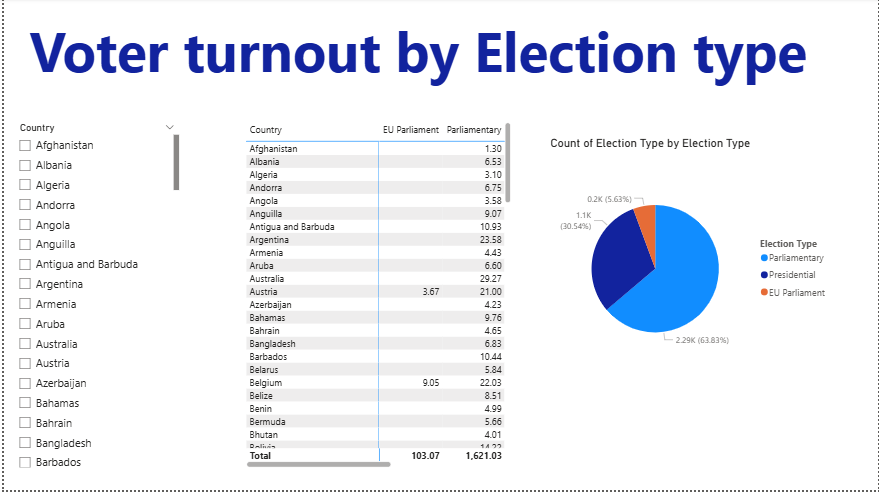

This screenshot's page, from the dashboard's own definition file:
{"tool":"powerbi","page":{"name":"Page 5","canvas":[1280,720],"ordinal":4},"visuals":[{"type":"textbox","box":[9.7,0,1270.8,143.1],"z":0},{"type":"pieChart","fields":{"Y":["CountNonNull(cleaned_voter_turnout_with_country.Election Type)"],"Category":["cleaned_voter_turnout_with_country.Election Type"]},"box":[794.4,201.4,420.8,369.4],"z":1000},{"type":"pivotTable","fields":{"Rows":["cleaned_voter_turnout_with_country.Country"],"Columns":["cleaned_voter_turnout_with_country.Election Type"],"Values":["Sum(cleaned_voter_turnout_with_country.Voter Turnout)"]},"box":[350,177.8,397.2,515.3],"z":2000},{"type":"slicer","fields":{"Values":["cleaned_voter_turnout_with_country.Country"]},"box":[9.7,177.8,251.4,515.3],"z":3000}]}

Visuals, with their boxes in screenshot pixels (x1, y1, x2, y2), scaled from the page's 1280x720 canvas onto the 879x492 screenshot:
textbox: left=7, top=0, right=878, bottom=98
pieChart - CountNonNull(cleaned_voter_turnout_with_country.Election Type) x cleaned_voter_turnout_with_country.Election Type: left=546, top=138, right=835, bottom=390
pivotTable - cleaned_voter_turnout_with_country.Country x cleaned_voter_turnout_with_country.Election Type: left=240, top=121, right=513, bottom=474
slicer - cleaned_voter_turnout_with_country.Country: left=7, top=121, right=179, bottom=474
